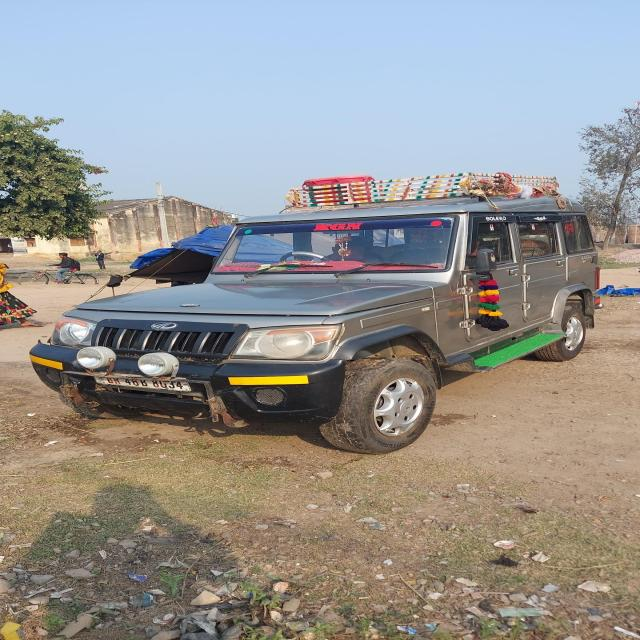light_vehicle: (37, 198, 595, 408)
